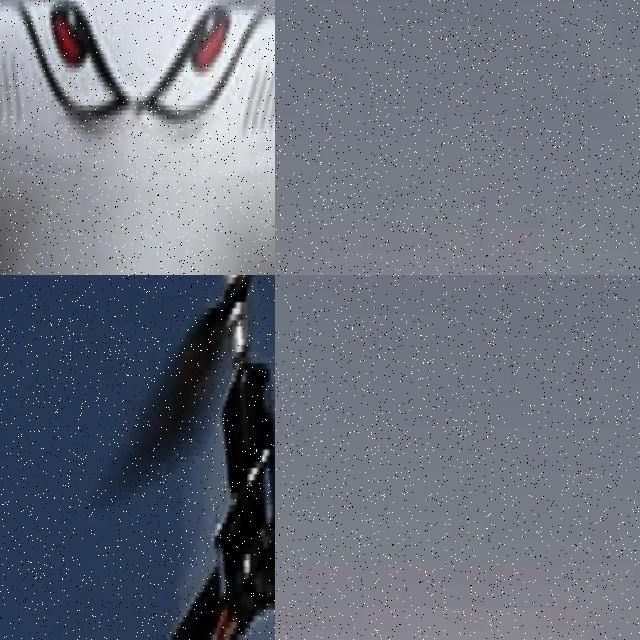drone: (0, 275, 275, 640), (0, 0, 275, 275)
